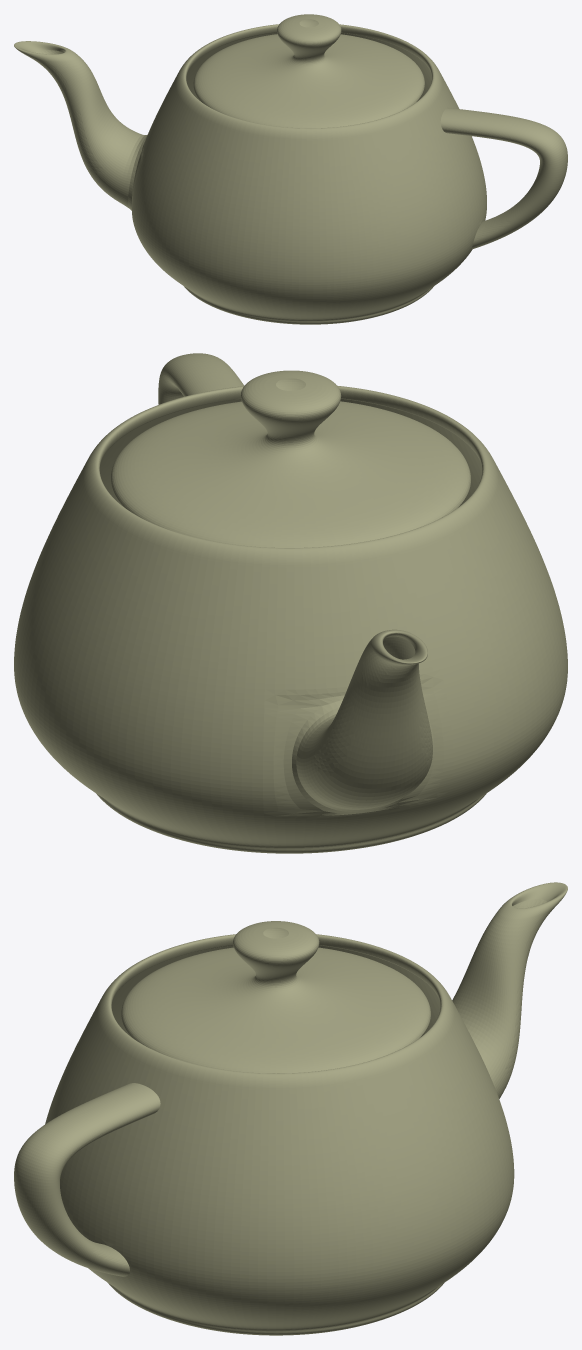
File: teapot3.obj
3 views of the same model, one above another, from view 1: azimuth 30°, elevation 25°; view 2: azimuth 150°, elevation 25°; view 3: azimuth 270°, elevation 25° (orthographic). The views are drawn at different scales.
Visible parts, largest first — view 1: Teapot; view 2: Teapot; view 3: Teapot.
Boxes of the visible parts, x1,y1,x2,y2 form: Teapot: [14, 14, 567, 324]; Teapot: [14, 353, 567, 853]; Teapot: [14, 882, 567, 1335].
Bounding box in the file's own units: 5.89 × 3.97 × 5.89.
